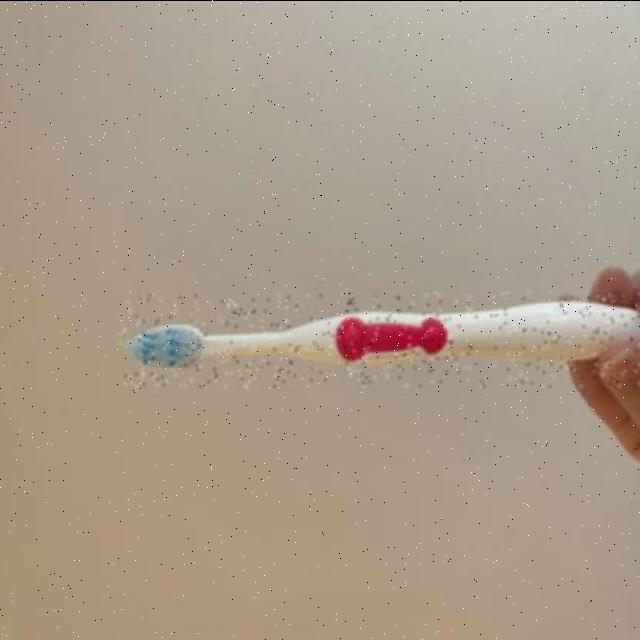toothbrush: (120, 290, 640, 386)
